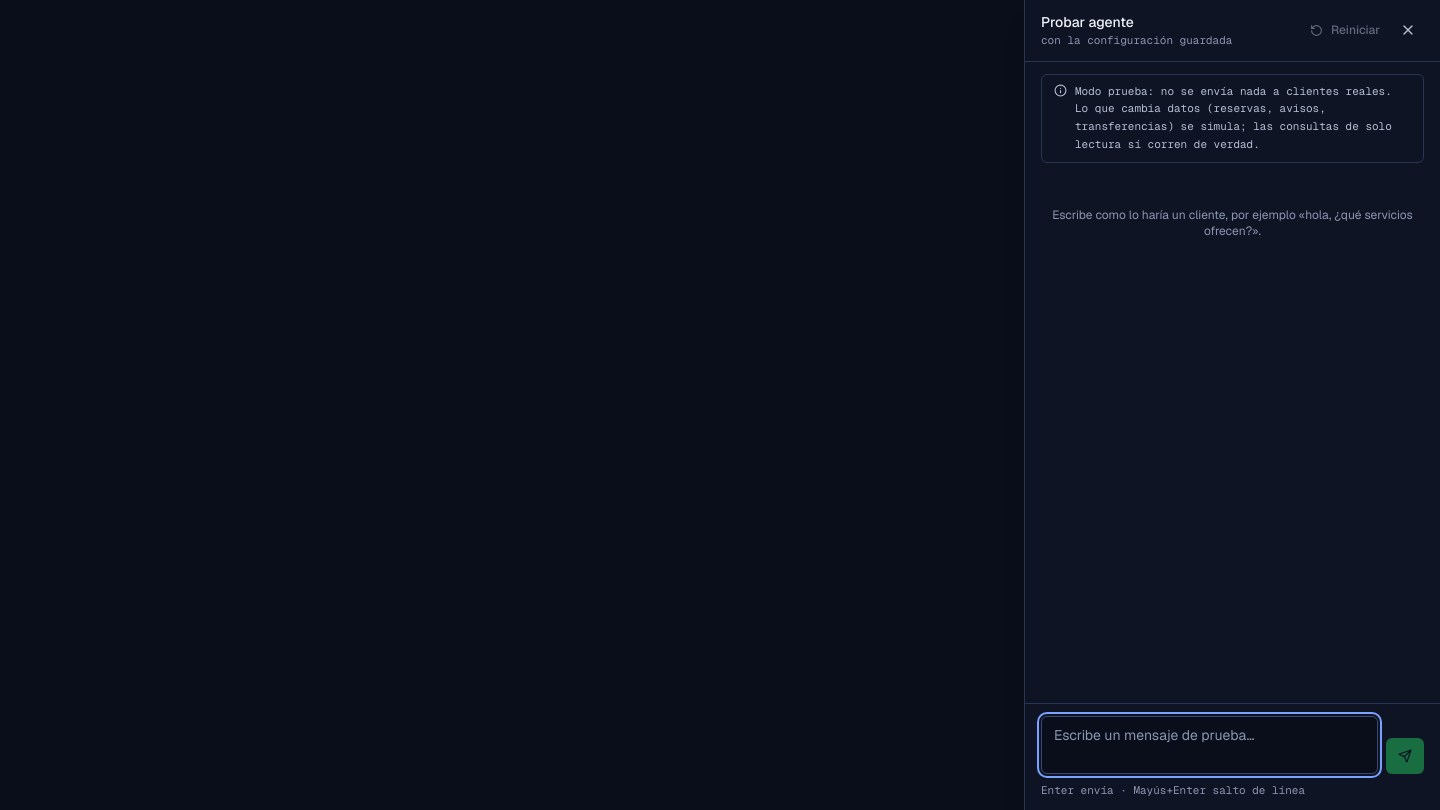
Test: al agotar el cupo diario (429) ya no se puede enviar
The image size is (1440, 810).
Type "hola" into the text box labelled "mensaje de prueba". click: (1210, 744)
box: [1041,716,1378,774]
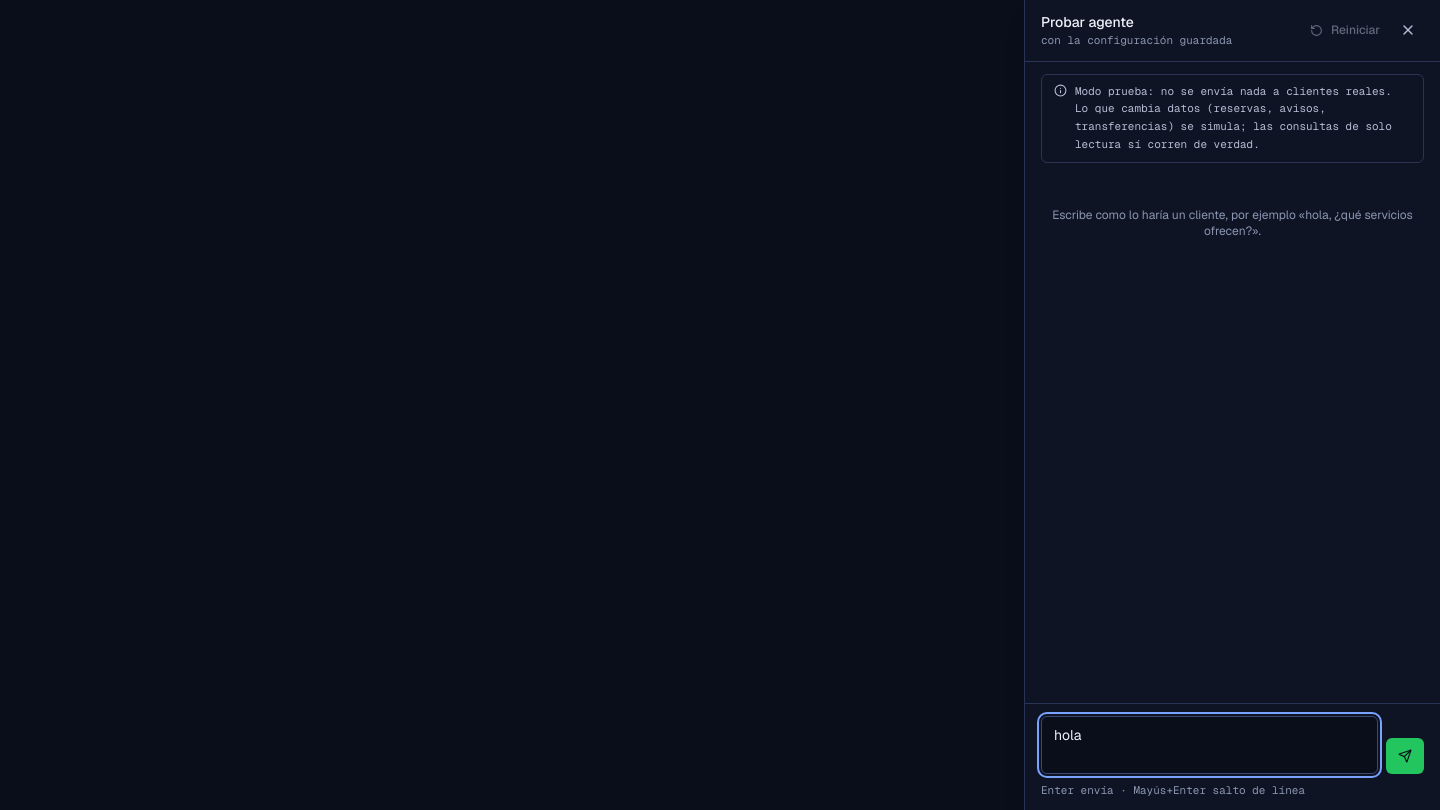
Click the button named "Enviar". click: (1405, 756)
box: [1386,738,1424,774]
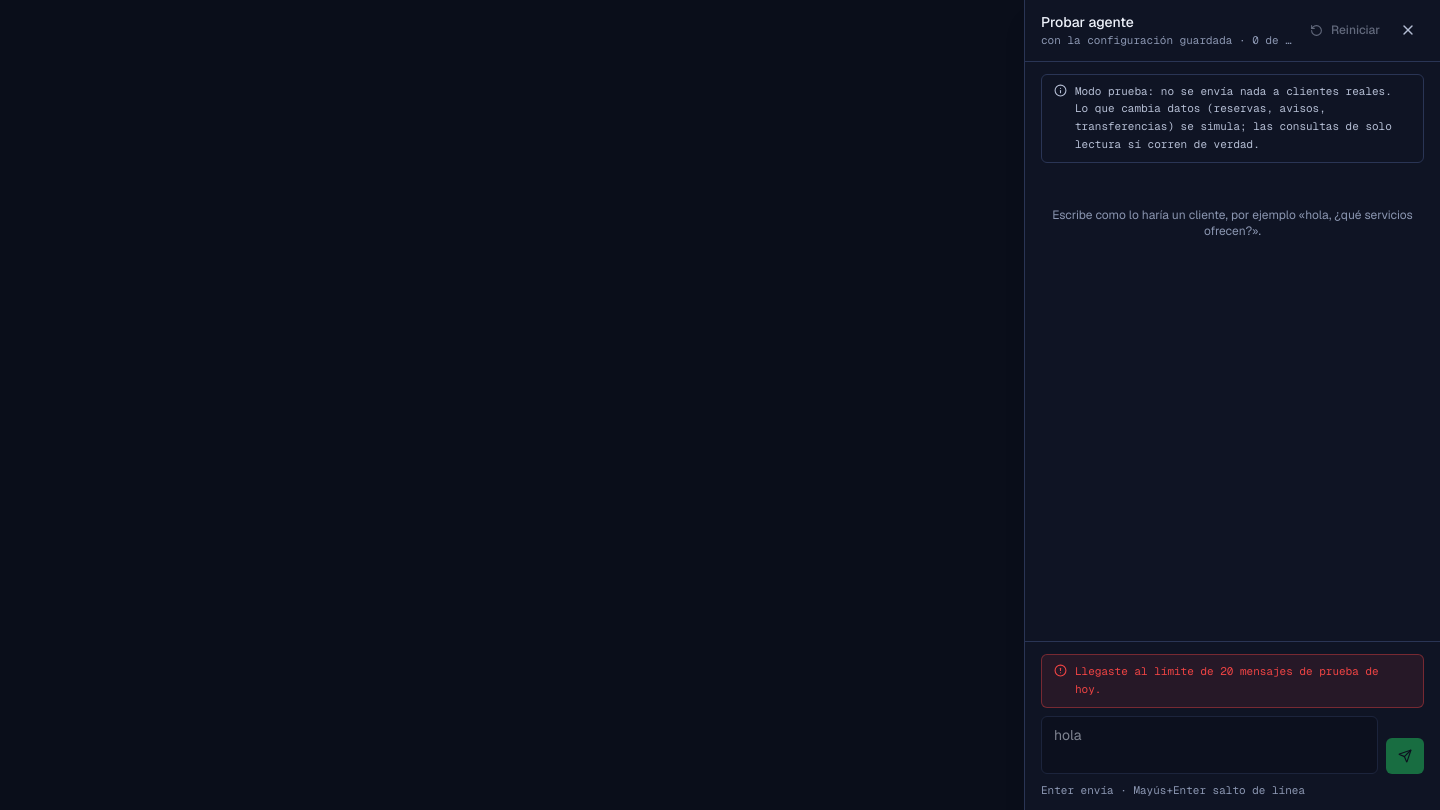
Now the text "Llegaste al límite de 20 mensajes de prueba de hoy." is shown, box [1075,663,1411,699]
Now the text box named "mensaje de prueba" is disabled, box [1041,716,1378,774]
